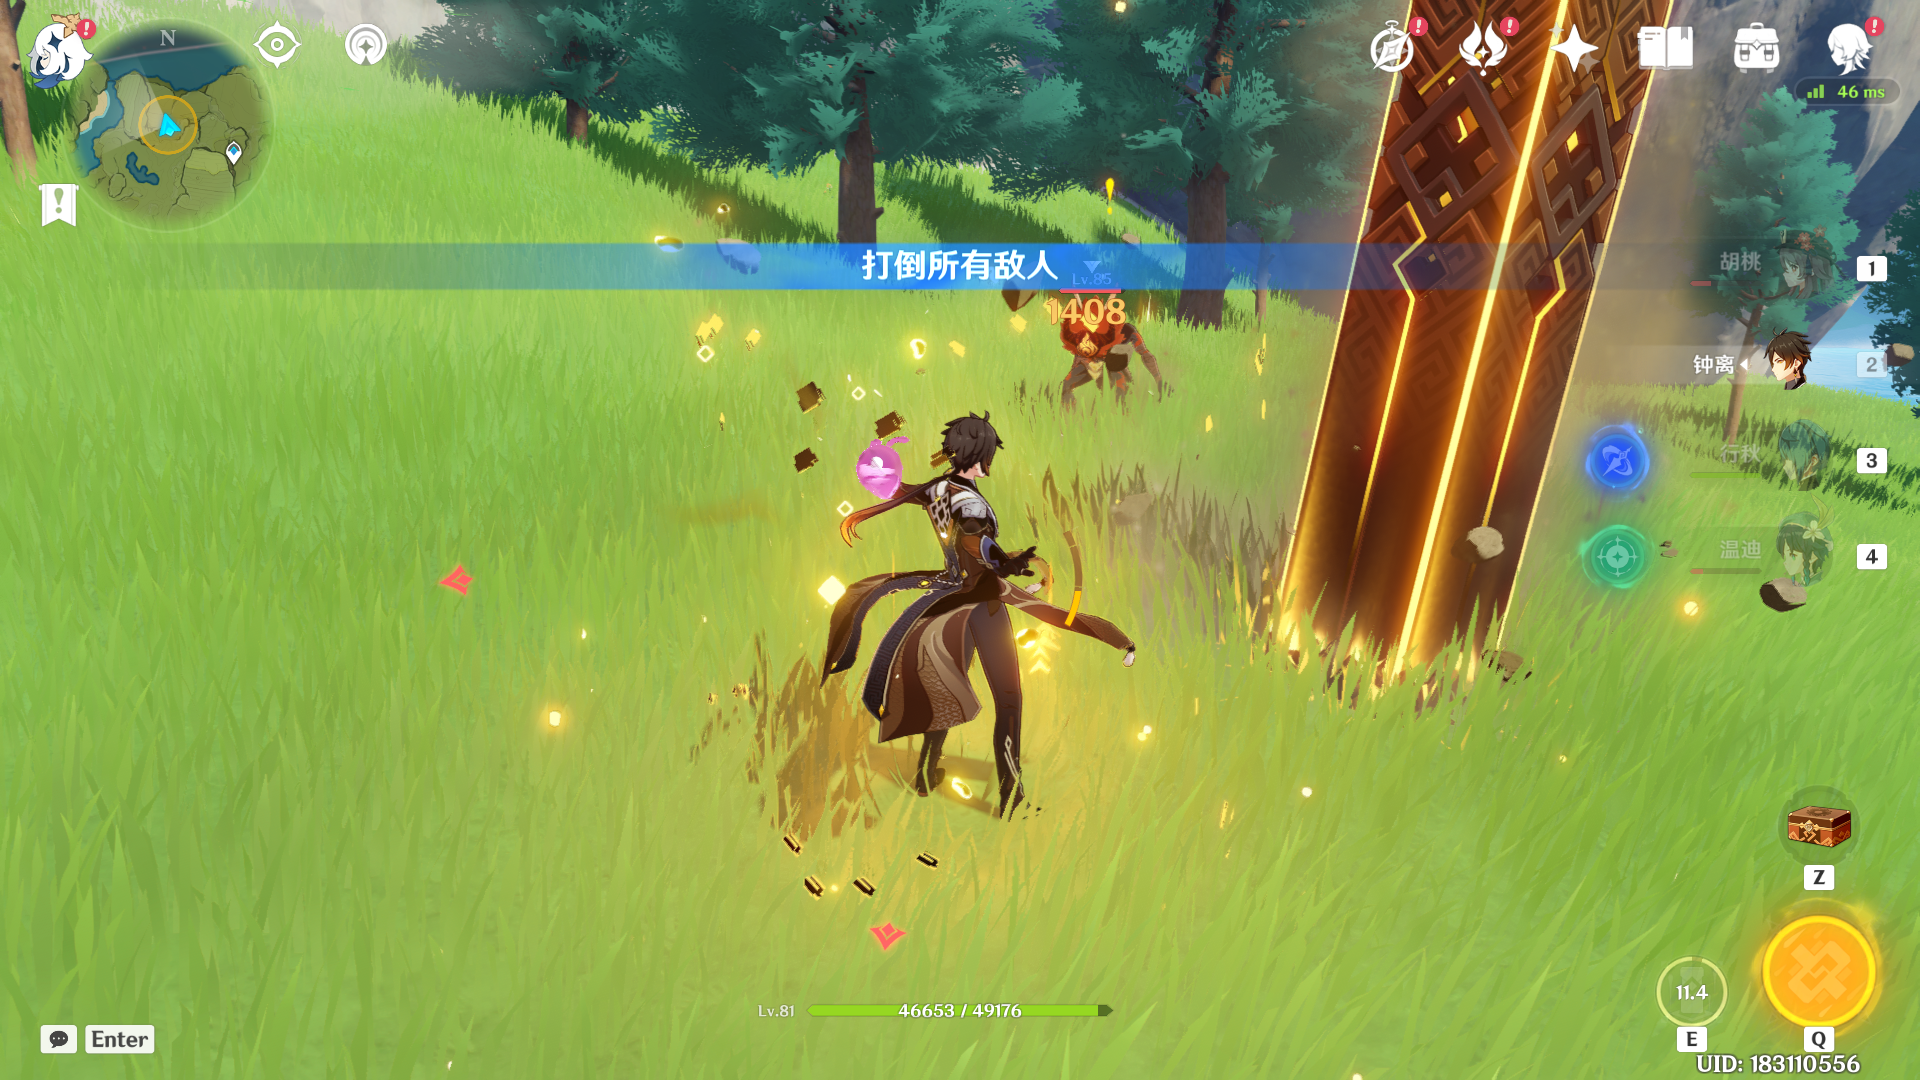character: (762, 369, 1130, 889)
hili: (1033, 258, 1191, 414)
